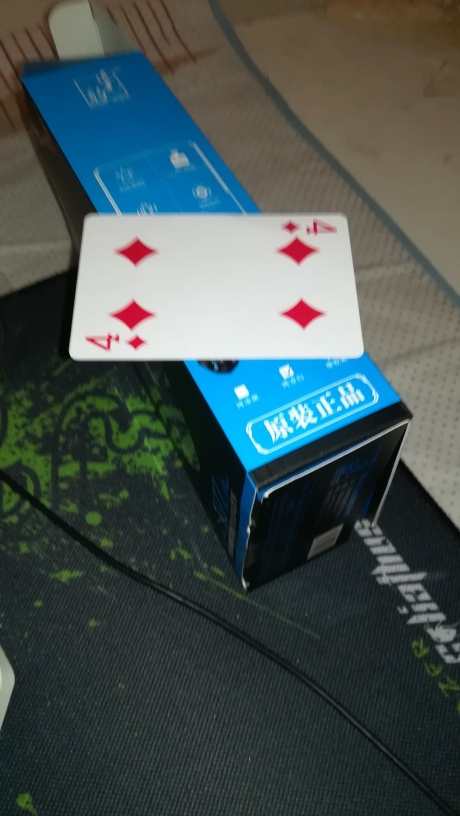fk 4: (67, 210, 367, 361)
